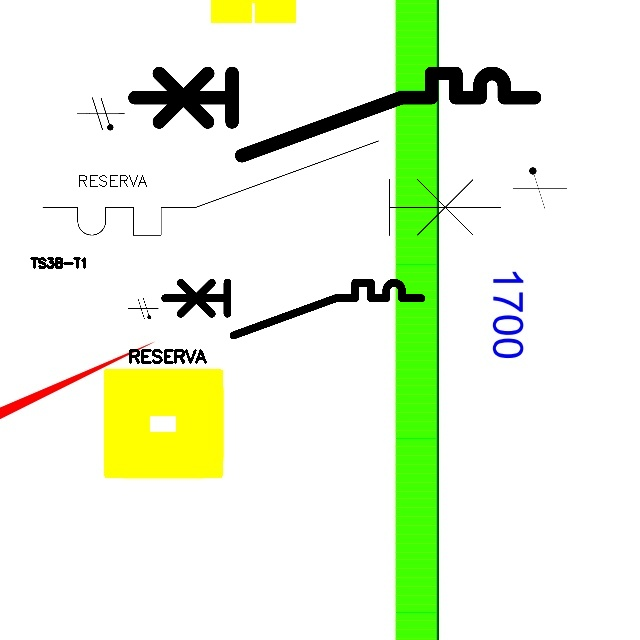interruptor_termomagnetico: (31, 129, 513, 247), (124, 63, 544, 166), (158, 276, 427, 342)
